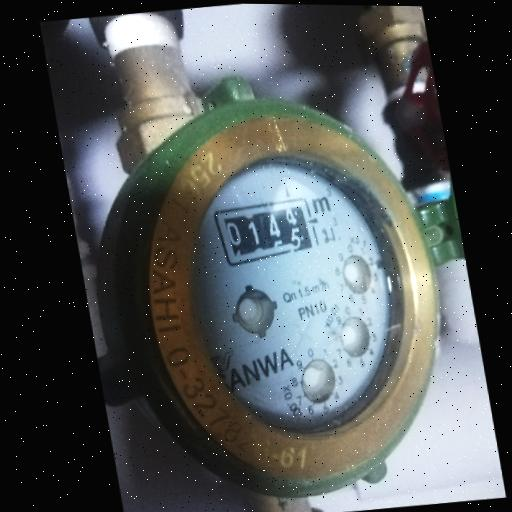0: (221, 216, 251, 258)
1: (240, 212, 271, 254)
4: (279, 204, 313, 252), (259, 208, 290, 249)
border_water_meter_number: (210, 189, 324, 270)
